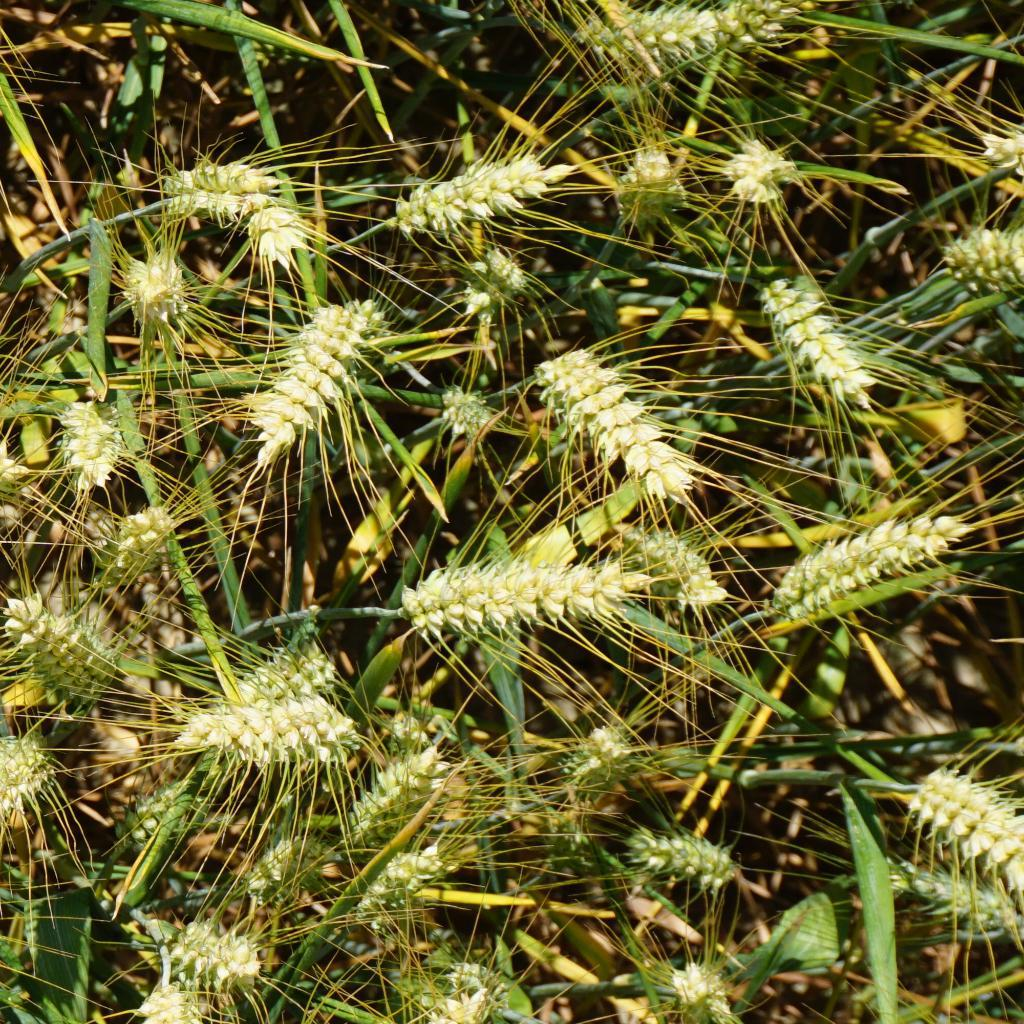0-0: (751, 512, 986, 632), (525, 327, 702, 486), (399, 548, 657, 652), (240, 300, 376, 458), (753, 248, 879, 416), (378, 150, 572, 233), (0, 595, 126, 717), (896, 760, 1024, 877), (602, 796, 747, 892), (181, 683, 346, 753), (150, 154, 275, 222), (0, 728, 81, 824), (627, 524, 717, 609), (346, 843, 444, 921), (345, 757, 445, 833), (220, 634, 335, 700), (608, 135, 690, 215), (706, 0, 824, 54), (937, 217, 1024, 290), (108, 786, 195, 856), (436, 949, 516, 1024), (130, 969, 239, 1024), (556, 8, 705, 48), (58, 389, 118, 485), (166, 909, 256, 973), (243, 829, 324, 898), (717, 129, 791, 203), (446, 247, 520, 320), (665, 956, 744, 1024), (126, 253, 197, 325), (964, 110, 1024, 189), (105, 500, 165, 578), (536, 802, 593, 876), (565, 717, 636, 776), (253, 205, 320, 266), (367, 983, 465, 1024), (437, 393, 492, 446), (381, 701, 434, 750), (0, 403, 26, 497)
